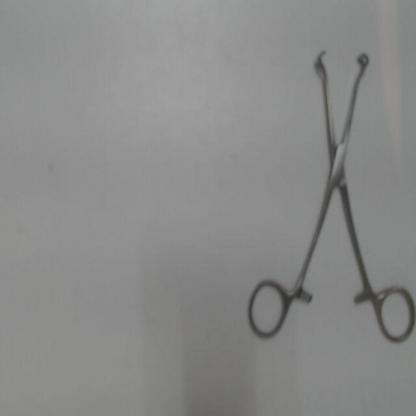Babcock Tissue Forceps: (241, 46, 415, 351)
